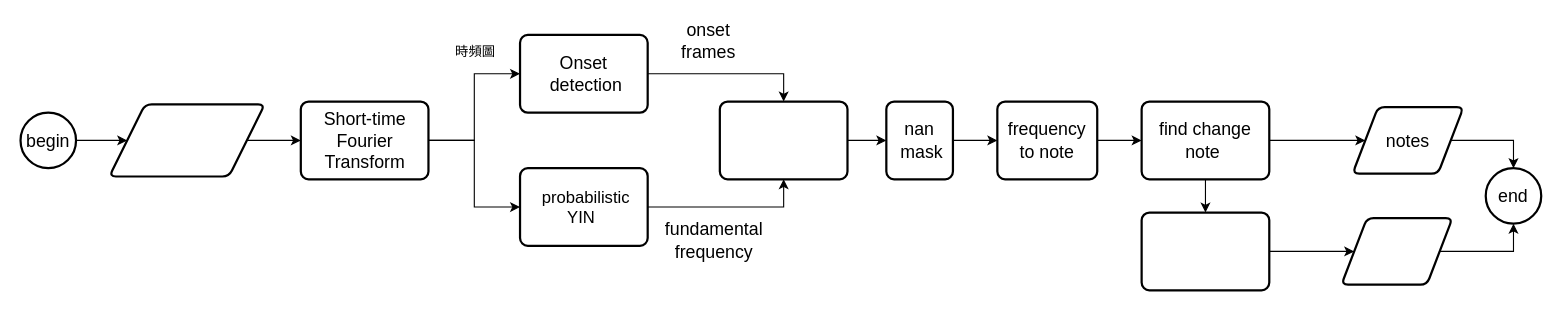
Image size: 1561x310. Some labels were removed from this diagram. Here are the shapes that lost their labels. From the top down, the centre of each, then its label:
At (186,140): "Piano.mp3".
At (783,140): "onset mask".
At (1205,251): "calculate time diff".
At (1396,250): "beats".
